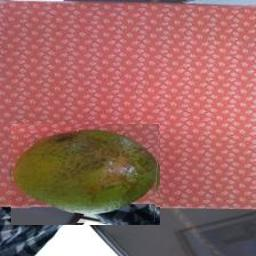Orange Semifresh: (12, 124, 161, 225)
